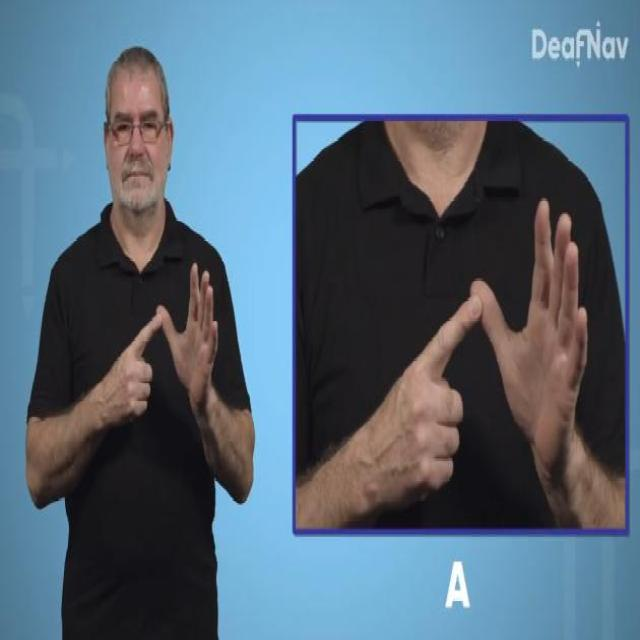A: (400, 195, 591, 508), (103, 261, 222, 422)
